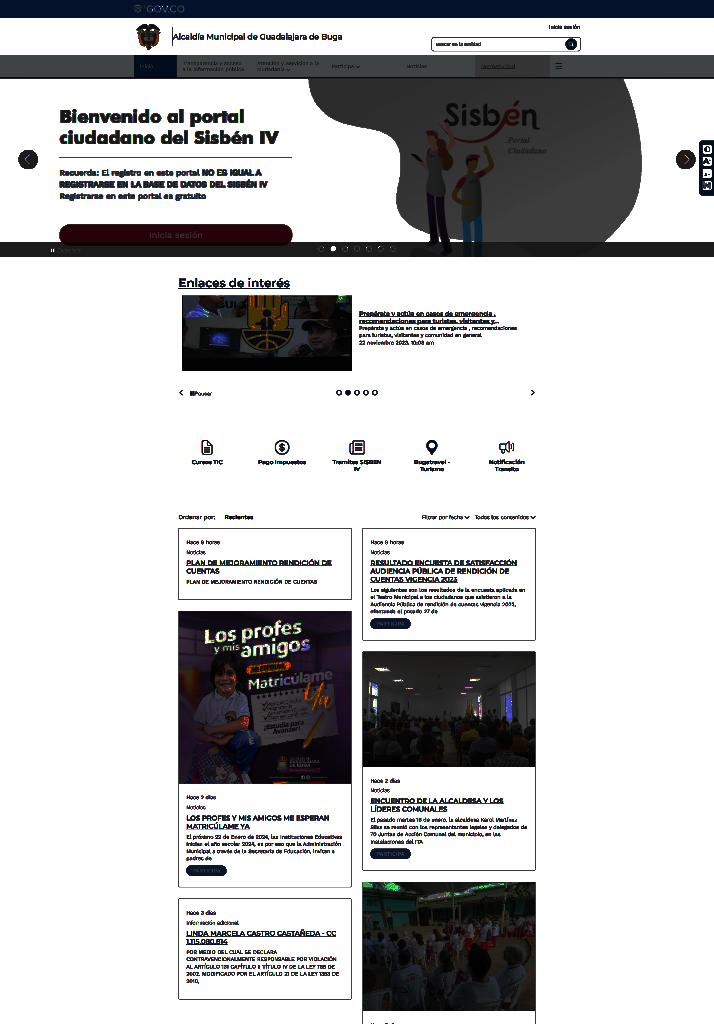banner principal: (15, 78, 698, 258)
barra accesibilidad: (700, 140, 714, 196)
barra govco: (132, 1, 580, 17)
btn atencion ciudadano: (256, 59, 320, 73)
btn buscador: (431, 36, 582, 52)
btn inicio: (138, 62, 156, 70)
btn inicio sesion: (546, 21, 582, 31)
btn normatividad: (479, 62, 517, 70)
btn noticias: (405, 60, 429, 72)
btn participa: (332, 62, 362, 70)
btn transpariencia: (182, 59, 244, 73)
logogovco: (132, 3, 186, 15)
menu principal: (134, 56, 566, 76)
